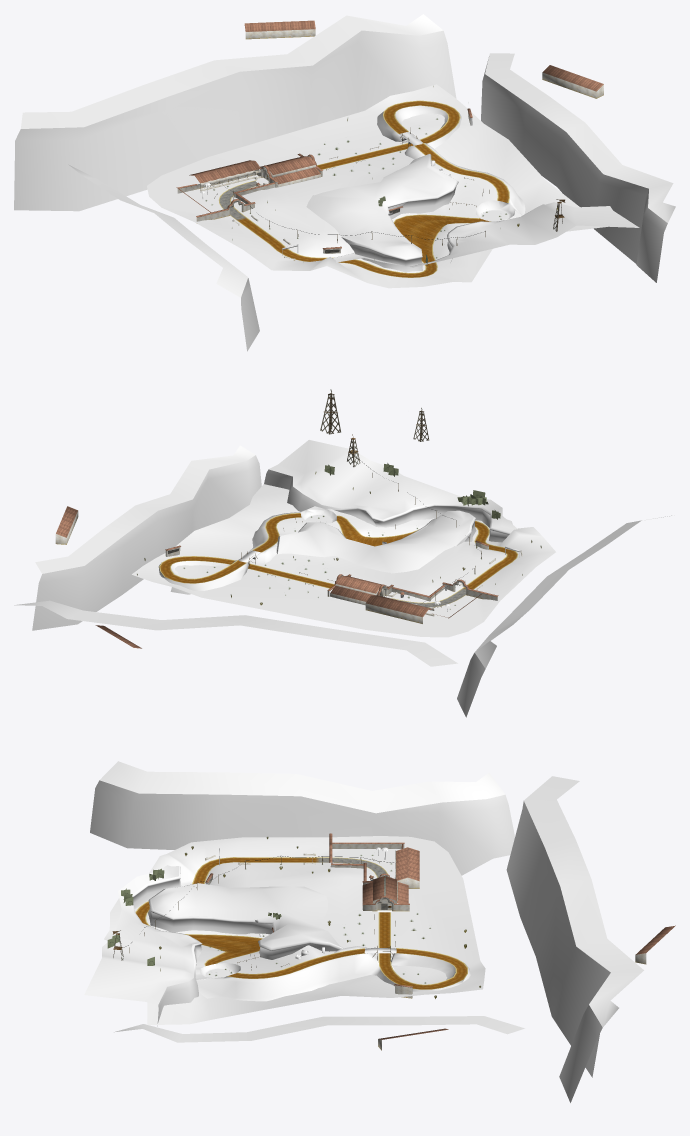
The model's file is tutorial_track.glb.
The picture shows the model from 3 angles, top to bottom: view 1: azimuth 30°, elevation 25°; view 2: azimuth 150°, elevation 25°; view 3: azimuth 270°, elevation 25°; orthographic projection. The views are drawn at different scales.
Parts seen in each view (by area): view 1: yellow_dirt.jpg__, canyon.jpg__, wall.jpg__, traildust.jpg__; view 2: yellow_dirt.jpg__, canyon.jpg__, wall.jpg__, traildust.jpg__, windmill_palm_detail.png__, sageBrush.jpg__; view 3: yellow_dirt.jpg__, canyon.jpg__, traildust.jpg__, wall.jpg__, sageBrush.jpg__.
Boxes of the visible parts, x1,y1,x2,y2 form: yellow_dirt.jpg__: (21, 14, 675, 297); canyon.jpg__: (14, 30, 667, 351); wall.jpg__: (176, 20, 603, 260); traildust.jpg__: (239, 100, 509, 277); yellow_dirt.jpg__: (14, 440, 671, 668); canyon.jpg__: (32, 455, 510, 717); wall.jpg__: (55, 506, 522, 648); traildust.jpg__: (159, 513, 518, 589); windmill_palm_detail.png__: (320, 389, 429, 441); sageBrush.jpg__: (324, 463, 500, 519); yellow_dirt.jpg__: (84, 761, 643, 1042); canyon.jpg__: (90, 780, 610, 1102); traildust.jpg__: (135, 857, 467, 989); wall.jpg__: (205, 833, 675, 1050); sageBrush.jpg__: (107, 868, 281, 965).
Size of the model in its own units: 585 by 164 by 638.
Materials: 34 (20 with a texture image).
